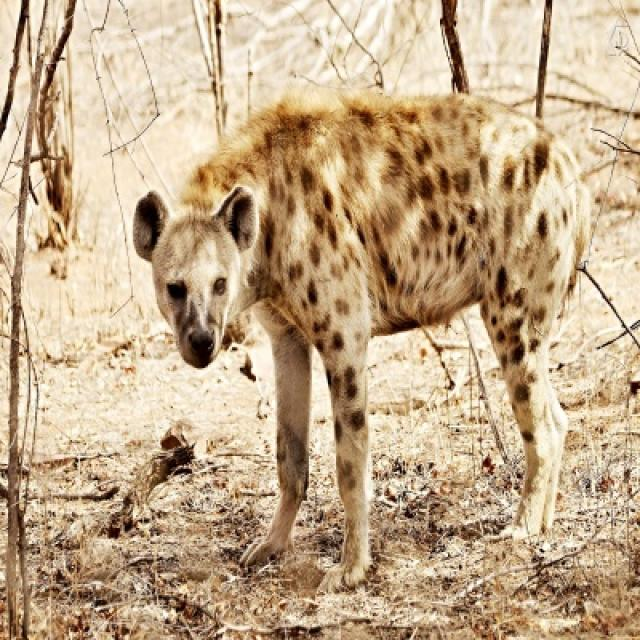hyena: (133, 93, 595, 594)
